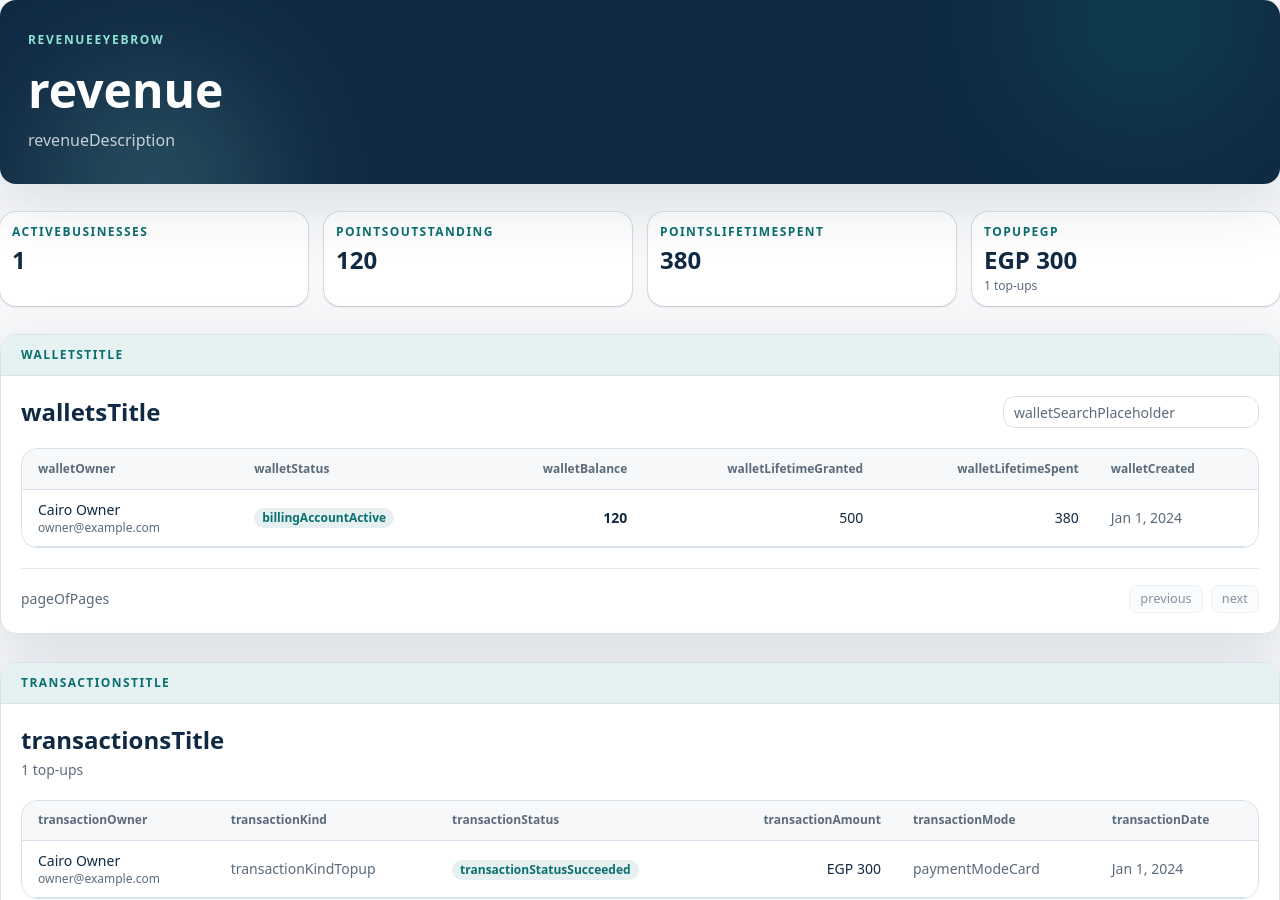
AdminRevenuePage › disables the top-up confirm button until points and reason are valid
The width and height of the screenshot is (1280, 900).
Step 1. Click the text "owner@example.com" below "walletOwner" → (99, 527), box x1=38 y1=518 x2=160 y2=536
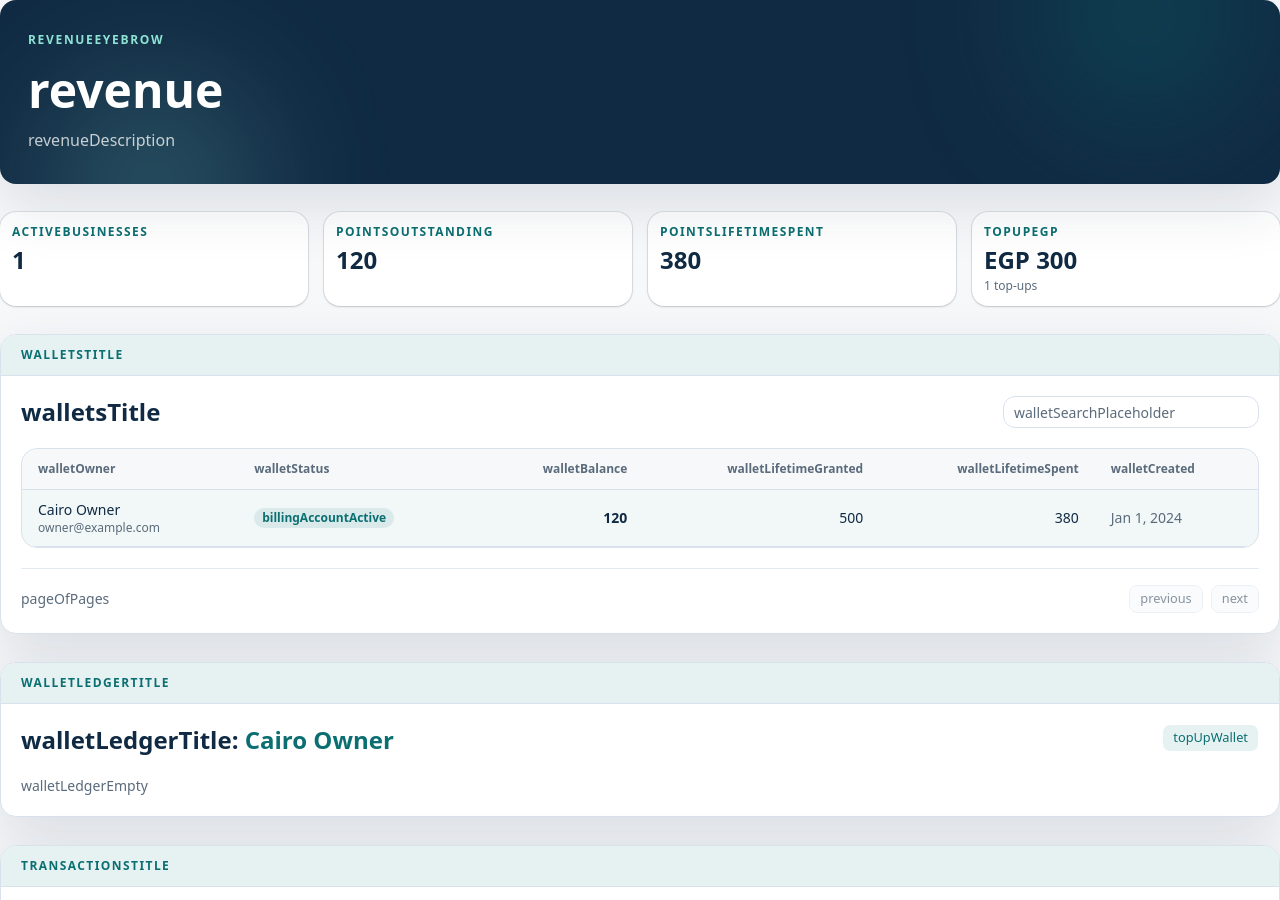
Step 2. Click the button "topUpWallet" → (1211, 738), box x1=1162 y1=724 x2=1259 y2=752
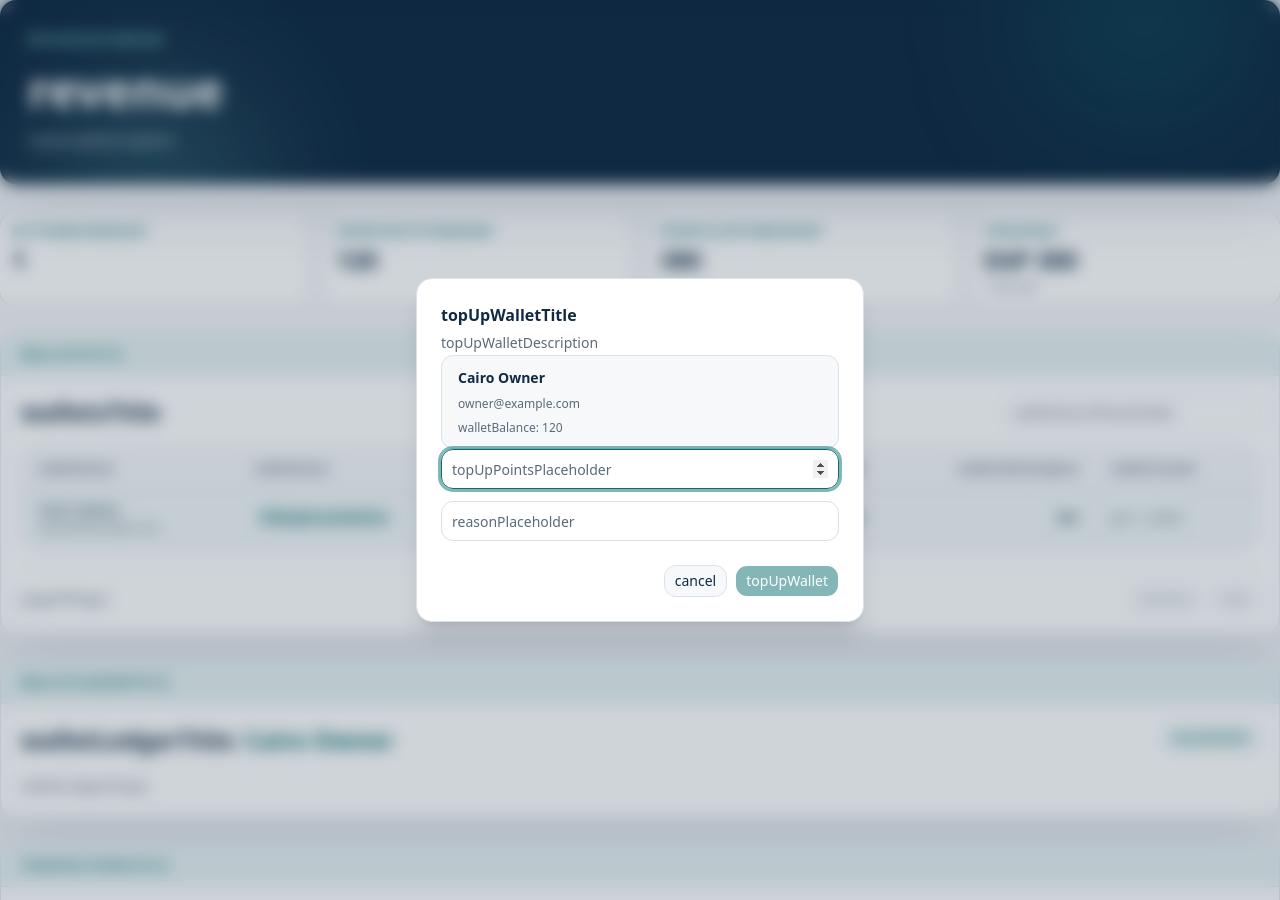
Result: the button "topUpWallet" is disabled at x1=735 y1=565 x2=839 y2=597
Step 3. Type "0" into the number field named "topUpPointsLabel" → (640, 469), box x1=441 y1=449 x2=839 y2=489
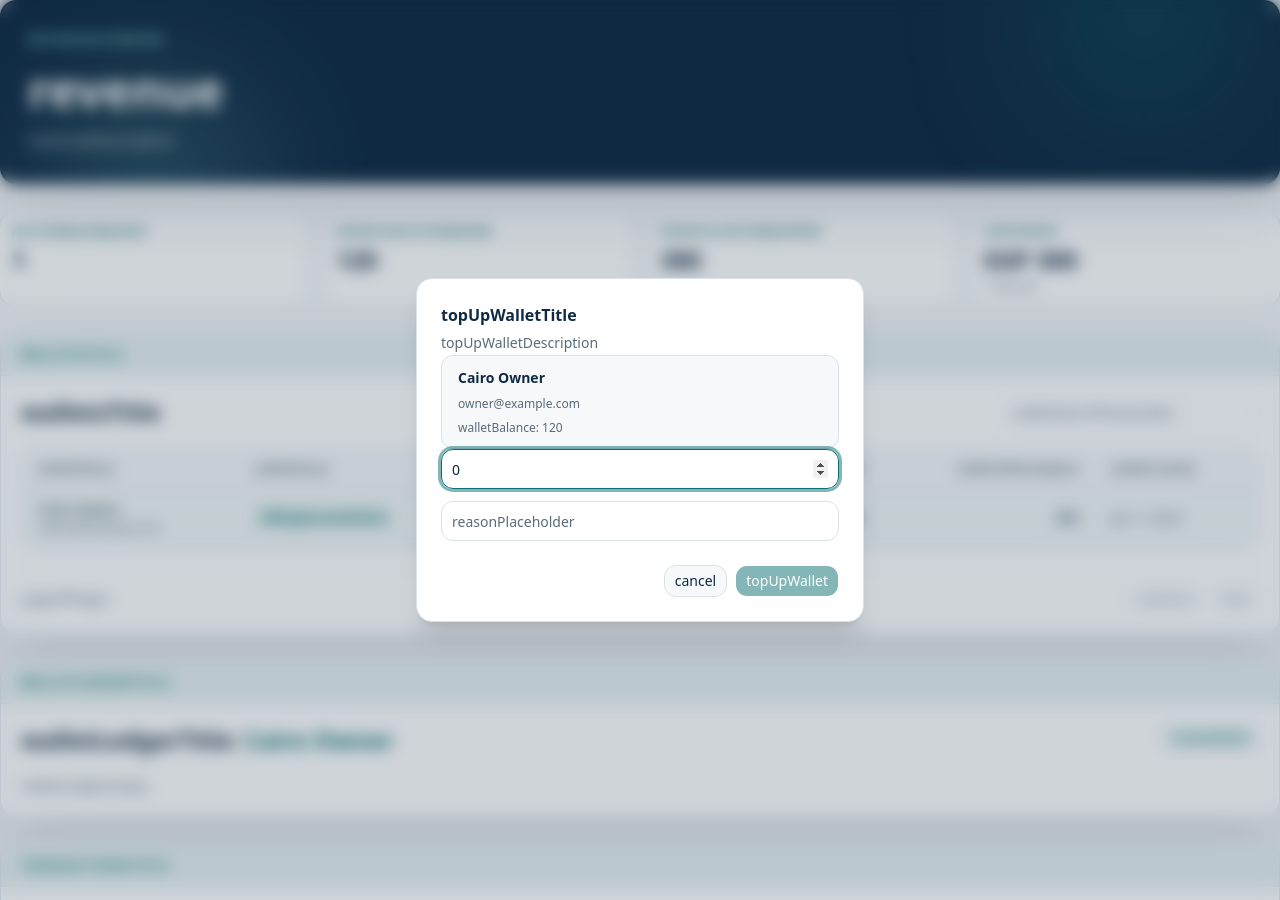
Step 4. Type "manual credit" into the field named "reasonLabel" → (640, 521), box x1=441 y1=501 x2=839 y2=541
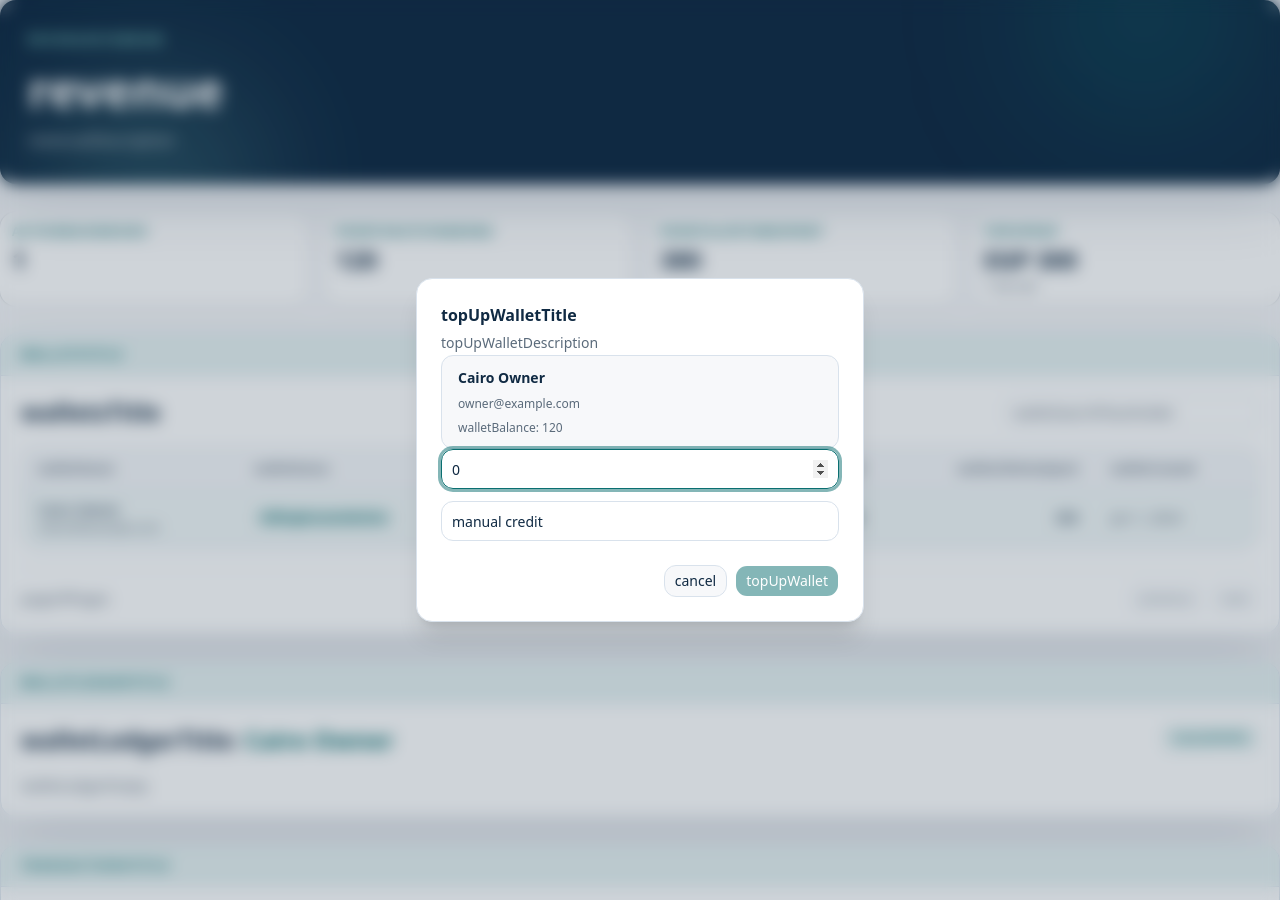
Result: the button "topUpWallet" is disabled at x1=735 y1=565 x2=839 y2=597
Step 5. Replace the text in the number field named "topUpPointsLabel" with "50" → (640, 469), box x1=441 y1=449 x2=839 y2=489
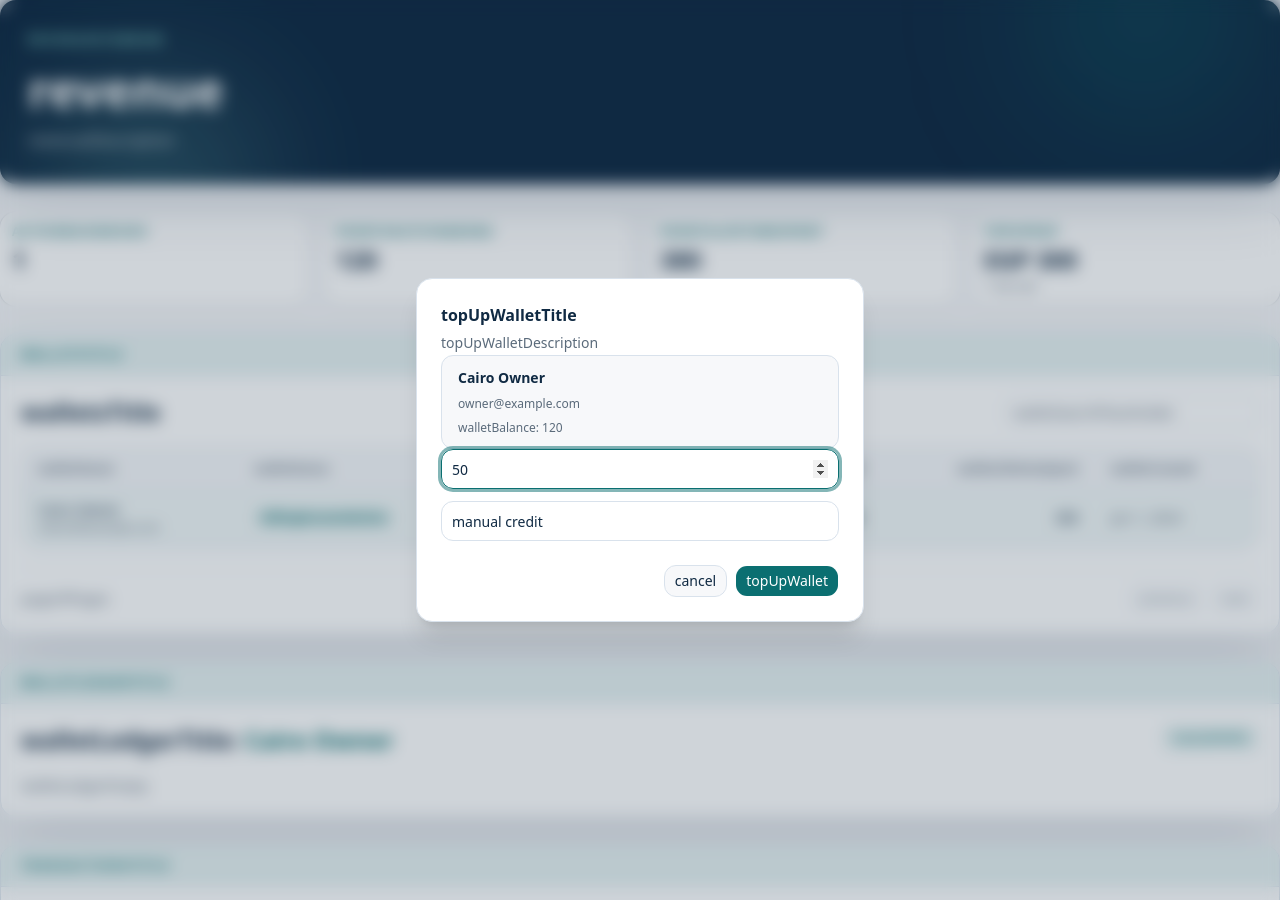
Result: the button "topUpWallet" is enabled at x1=735 y1=565 x2=839 y2=597
